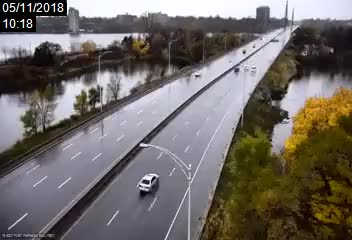personal_car: (136, 172, 161, 196), (193, 70, 202, 78), (250, 64, 257, 73), (243, 63, 249, 72), (233, 65, 240, 72)
